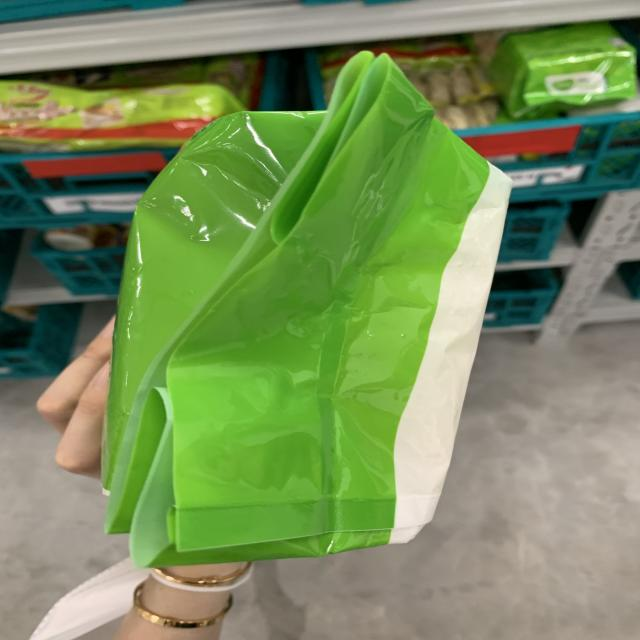object_name: (125, 119, 470, 519)
